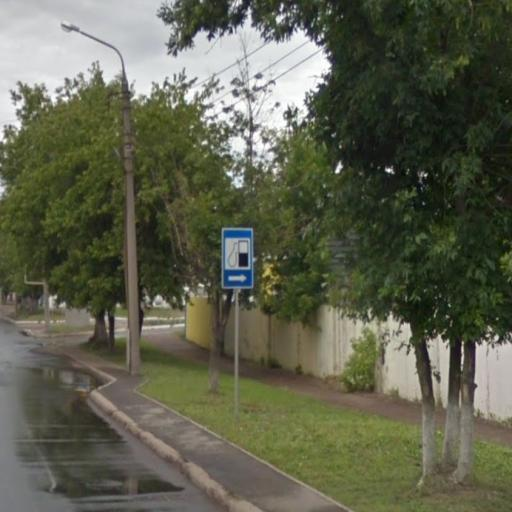traffic_sign: (218, 223, 258, 295)
